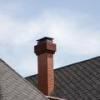chimneys: (38, 37, 55, 96)
